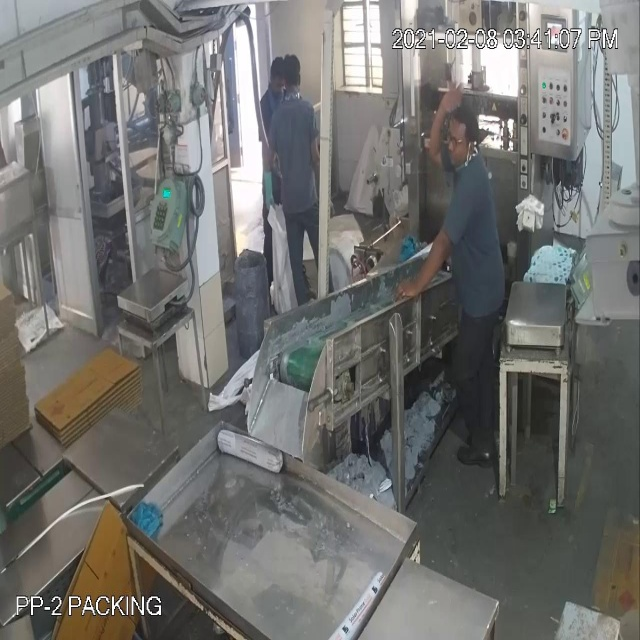Sin_guantes: (395, 217, 457, 302), (427, 73, 465, 167)
